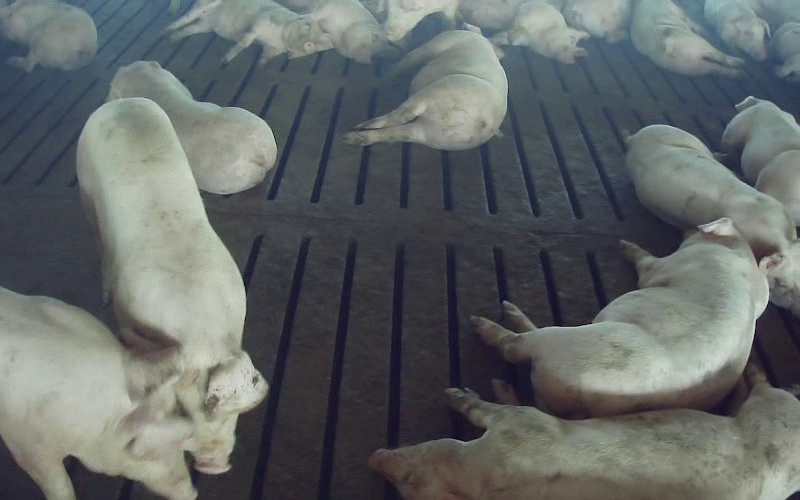pig: (369, 366, 799, 499), (626, 125, 795, 258), (107, 61, 276, 193), (344, 26, 507, 150), (166, 0, 332, 64), (722, 96, 799, 225), (630, 0, 743, 76), (278, 0, 384, 62), (494, 0, 588, 63), (704, 0, 768, 60)
